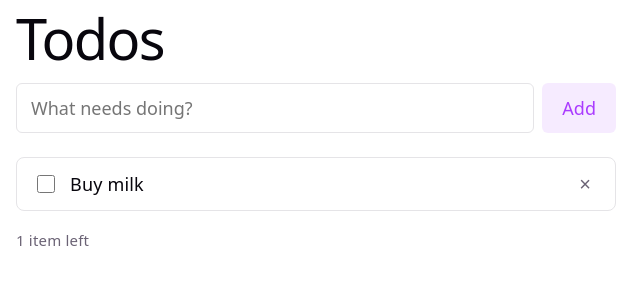
Test: toggling completion › shows an error message when updating fails
The width and height of the screenshot is (633, 305).
Click the checkbox named "Mark \"Buy milk\" as complete".
click(46, 184)  # box [37,175,55,193]
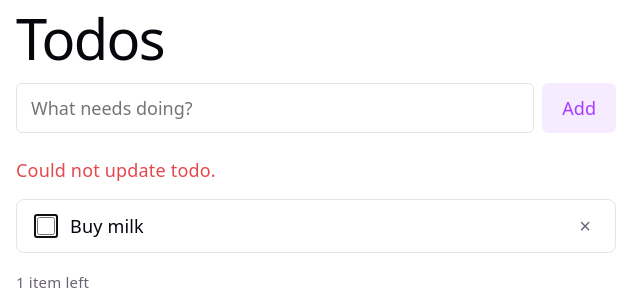
Expected: the text "Could not update todo." is shown, [16,158,216,182]
